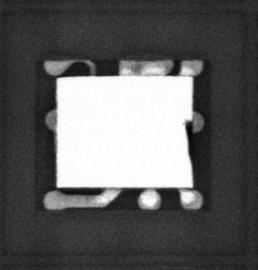DIE_BROKEN: (183, 119, 194, 165)
